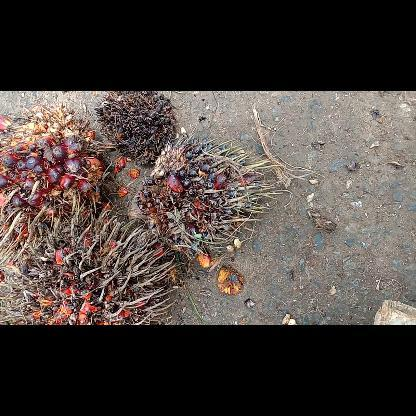TBS abnormal: (127, 132, 278, 268), (93, 90, 180, 168)
TBS masak: (0, 107, 110, 231)
Terlalu masak: (0, 210, 184, 324)
